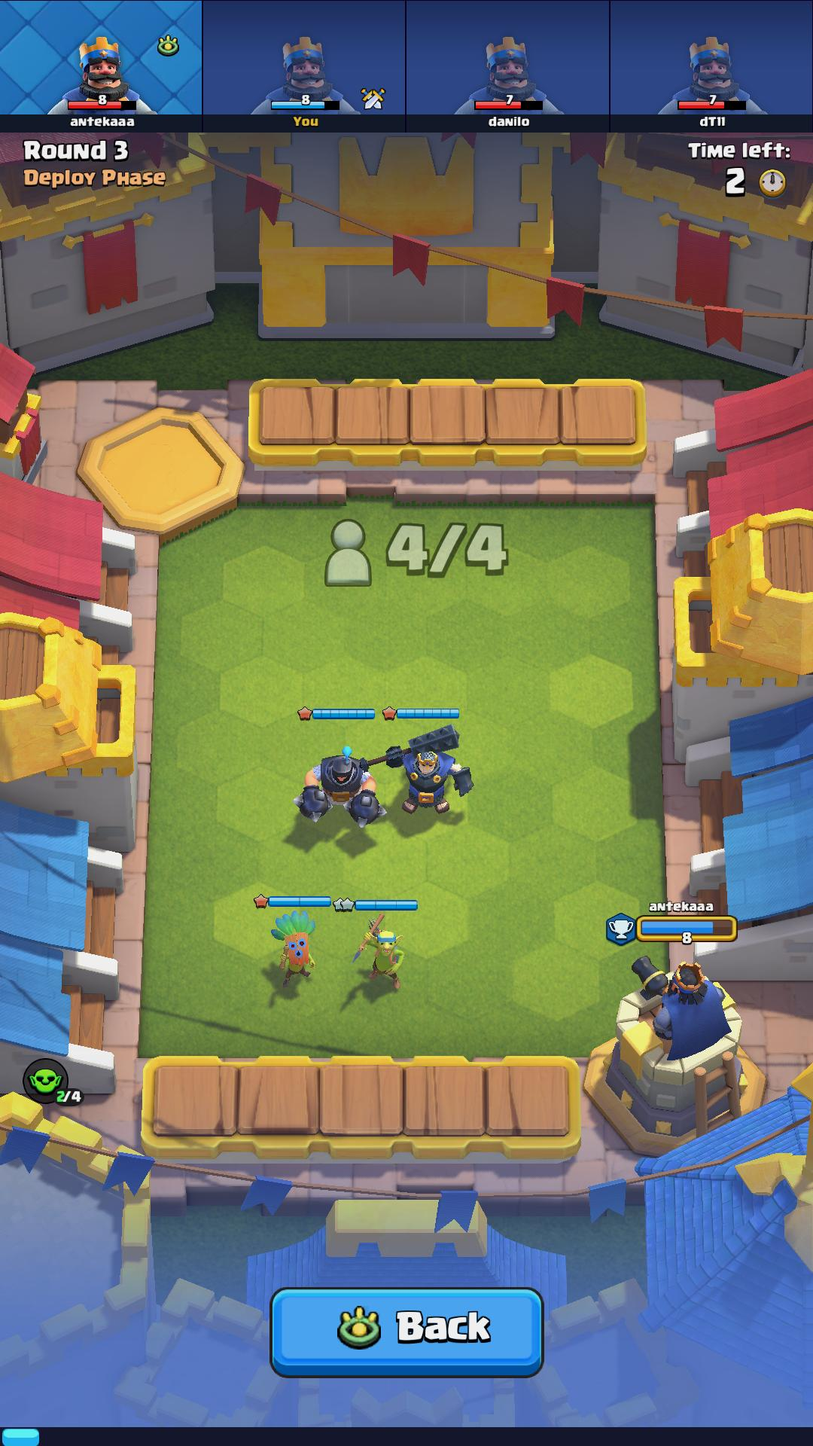dart: (270, 910, 324, 991)
king: (379, 723, 479, 820)
mega: (288, 742, 387, 838)
spear: (349, 911, 415, 997)
